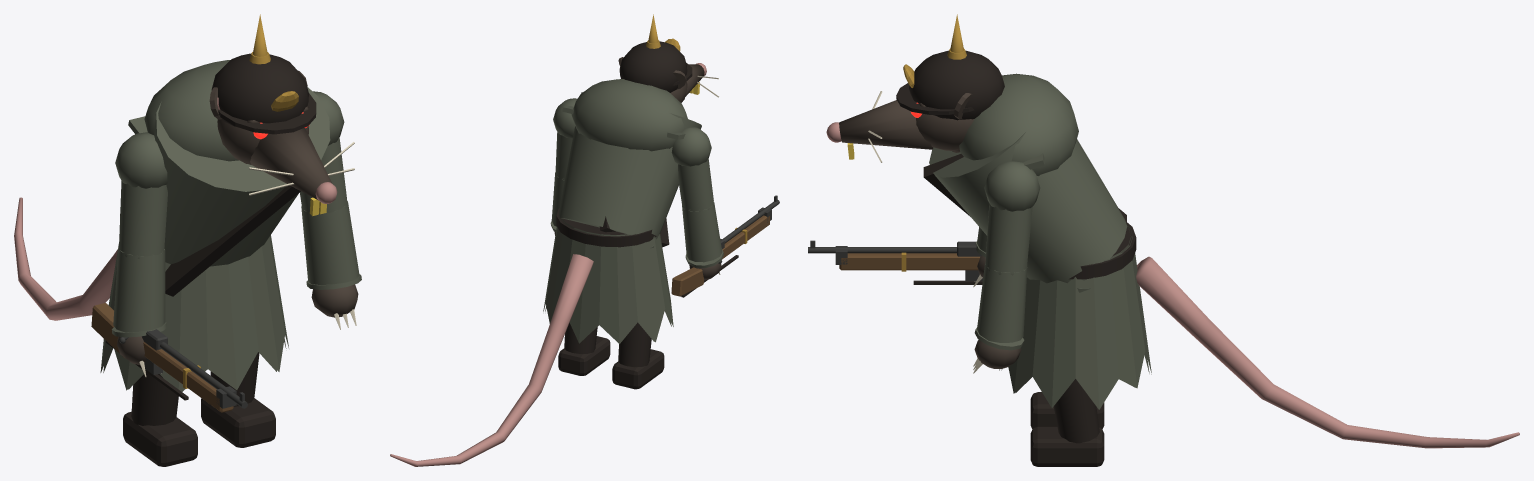
The model's file is rat_infantry.glb.
The picture shows the model from 3 angles, left to right: view 1: azimuth 30°, elevation 25°; view 2: azimuth 150°, elevation 25°; view 3: azimuth 270°, elevation 25°; orthographic projection. The views are drawn at different scales.
Parts seen in each view (by area): view 1: torso_mesh, hips_mesh, head_mesh, arm_R_mesh, arm_L_mesh, leg_R_mesh, weapon, leg_L_mesh, tail_mesh; view 2: torso_mesh, hips_mesh, arm_R_mesh, tail_mesh, head_mesh, leg_R_mesh, weapon, leg_L_mesh, arm_L_mesh; view 3: torso_mesh, hips_mesh, head_mesh, arm_L_mesh, tail_mesh, leg_L_mesh, weapon, leg_R_mesh.
Boxes of the visible parts, x1,y1,x2,y2 form: torso_mesh: (128, 60, 330, 296); hips_mesh: (100, 214, 288, 391); head_mesh: (209, 14, 354, 216); arm_R_mesh: (111, 132, 167, 376); arm_L_mesh: (299, 91, 361, 329); leg_R_mesh: (123, 372, 197, 466); weapon: (91, 303, 247, 412); leg_L_mesh: (201, 352, 275, 447); tail_mesh: (14, 197, 117, 320); torso_mesh: (558, 79, 701, 247); hips_mesh: (543, 208, 673, 343); arm_R_mesh: (671, 127, 723, 279); tail_mesh: (390, 254, 593, 466); head_mesh: (618, 14, 718, 102); leg_R_mesh: (612, 245, 664, 389); weapon: (671, 195, 779, 297); leg_L_mesh: (558, 323, 610, 375); arm_L_mesh: (550, 98, 577, 235); torso_mesh: (923, 73, 1127, 283); hips_mesh: (999, 222, 1151, 409); head_mesh: (826, 14, 1004, 162); arm_L_mesh: (973, 161, 1040, 373); tail_mesh: (1136, 256, 1519, 448); leg_L_mesh: (1030, 288, 1104, 466); weapon: (808, 240, 982, 284); leg_R_mesh: (1030, 392, 1104, 428).
Size of the model in its own units: 1.25 by 2.32 by 3.49.
